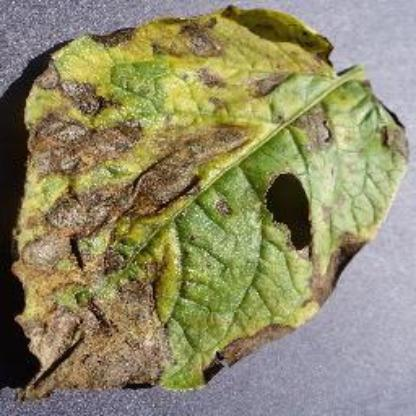Early-Blight: (9, 3, 409, 404)
